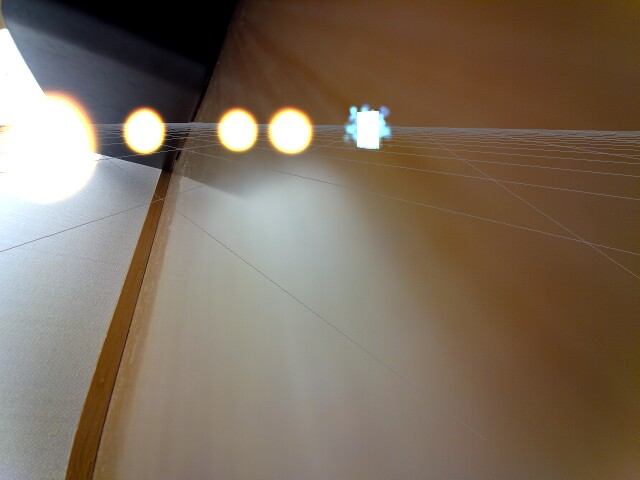firebig: (0, 54, 110, 216)
